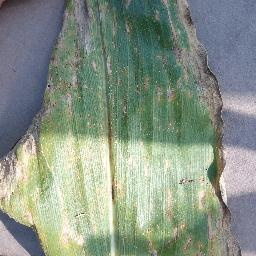Gray_Leaf_Spot: (42, 0, 119, 256), (154, 0, 229, 118), (183, 119, 247, 256), (0, 114, 41, 238), (161, 187, 182, 256), (119, 64, 130, 126), (141, 224, 159, 256), (134, 72, 154, 95), (122, 0, 134, 38)
